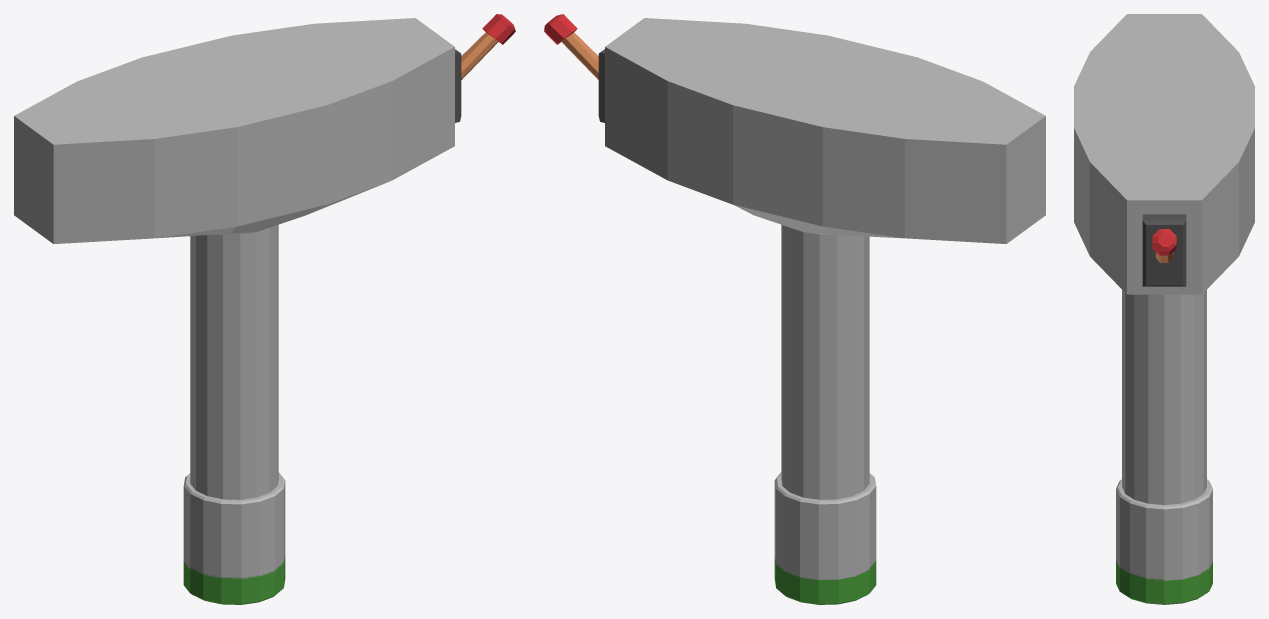
The model's file is Pipe.fbx.
3 renders of one model, left to right at view 1: azimuth 30°, elevation 25°; view 2: azimuth 150°, elevation 25°; view 3: azimuth 270°, elevation 25°, orthographic. The views are drawn at different scales.
Parts seen in each view (by area): view 1: Pipe; view 2: Pipe; view 3: Pipe.
Part boxes in pixels (left/top/right/bottom): Pipe: left=14, top=14, right=515, bottom=604; Pipe: left=544, top=14, right=1045, bottom=604; Pipe: left=1074, top=14, right=1254, bottom=604.
Size of the model in its own units: 122 by 357 by 356.
